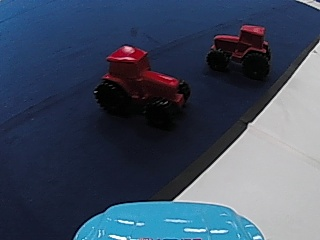tractor: (91, 41, 189, 122), (206, 22, 273, 78)
